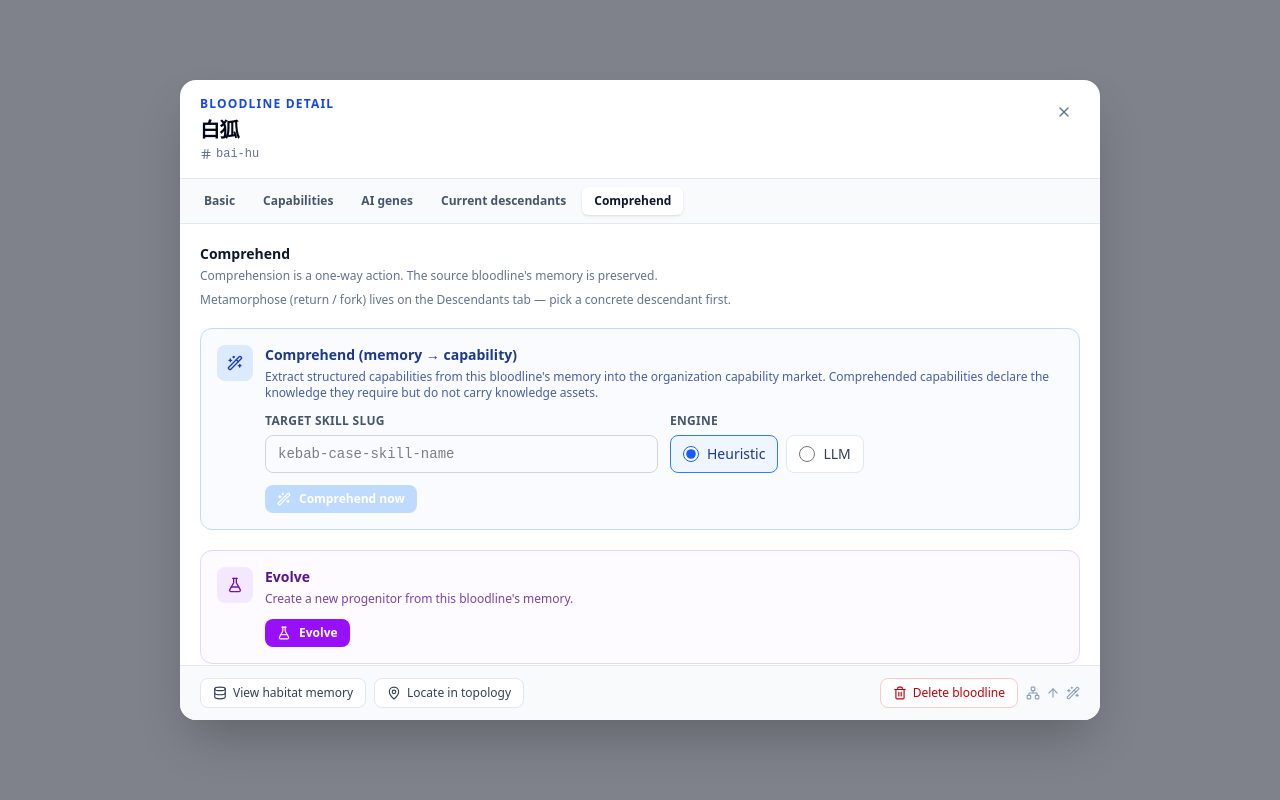
Test: EntityDetailModal › runs distill (memory to capability) with engine selection and shows candidates
Expected: the heading "白狐" is shown, [200, 116, 239, 143]
Type "research-planner" into the field with test id "distill-skill-slug".
click(462, 454); type("research-planner")  # box [265, 435, 658, 473]
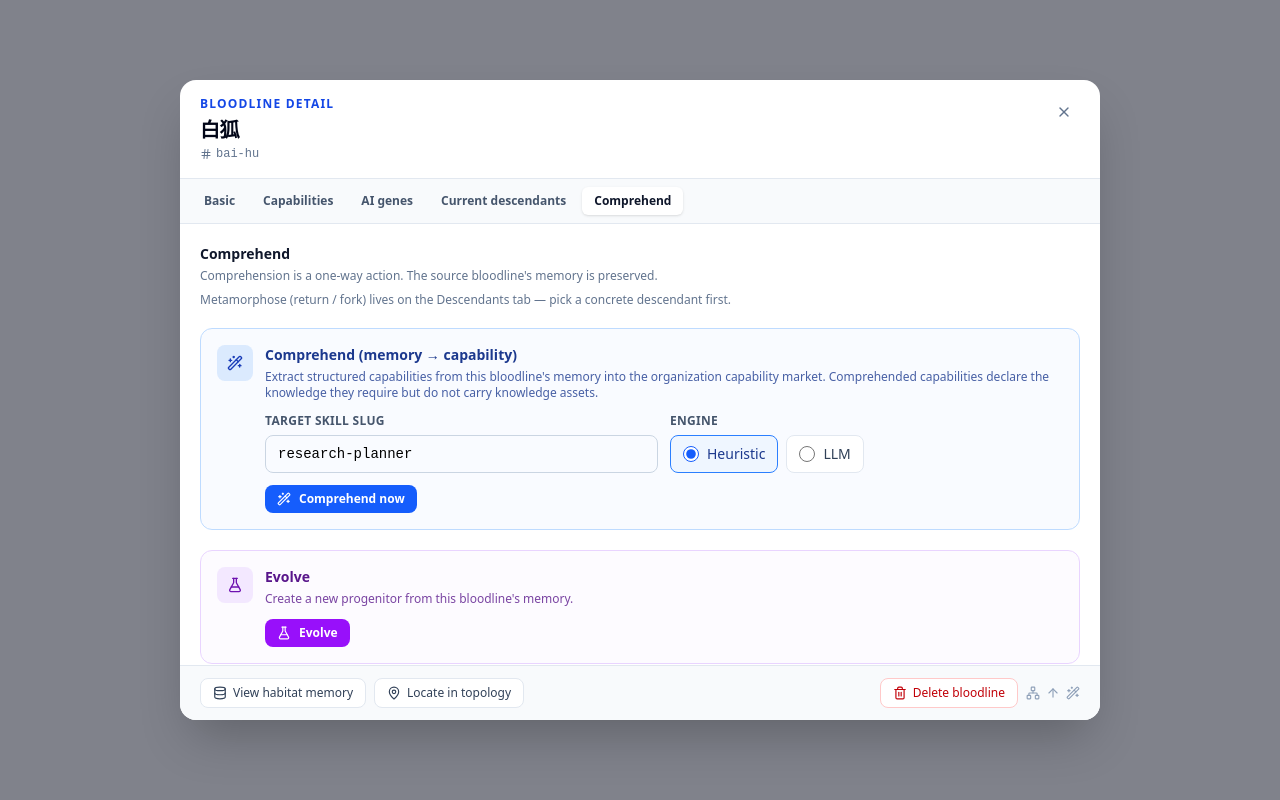
Click the radio button with test id "distill-engine-llm".
click(807, 454)  # box [799, 446, 815, 462]
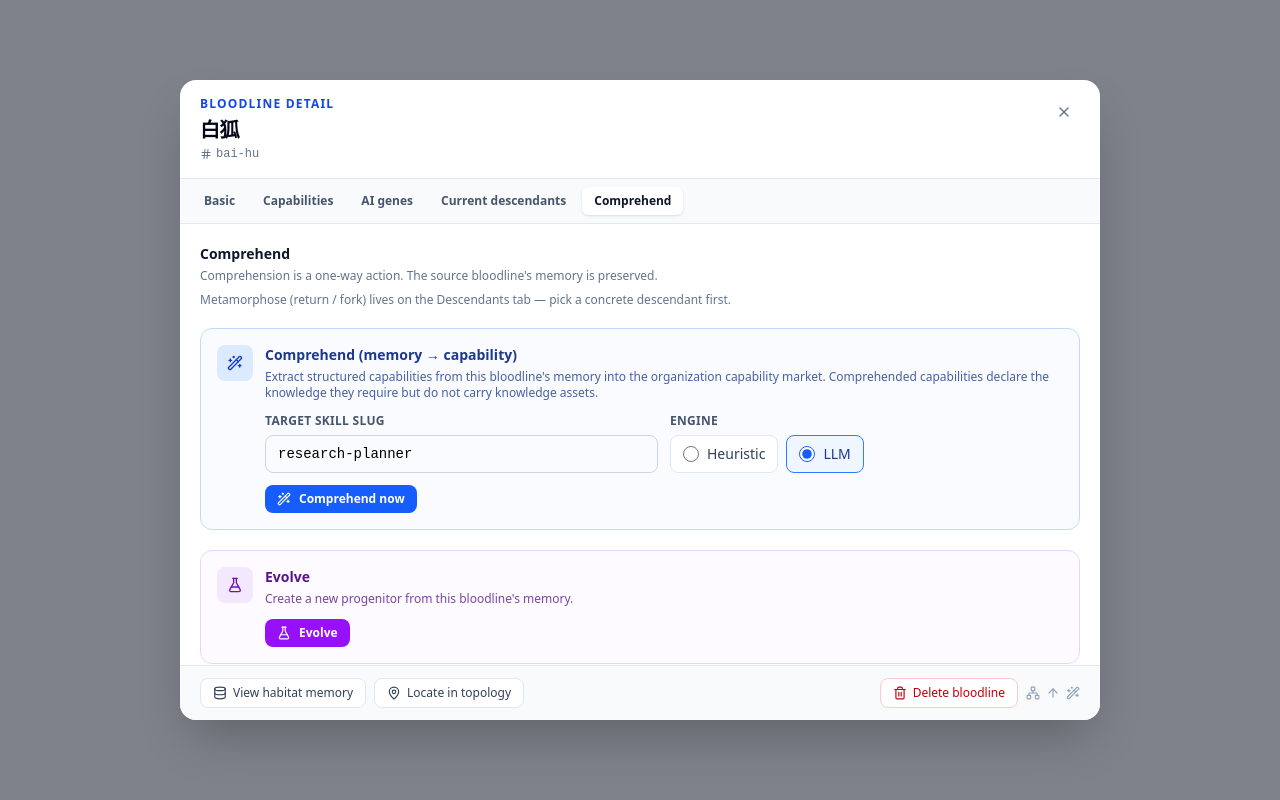
Click the button with test id "distill-submit".
click(341, 499)  # box [265, 485, 417, 513]
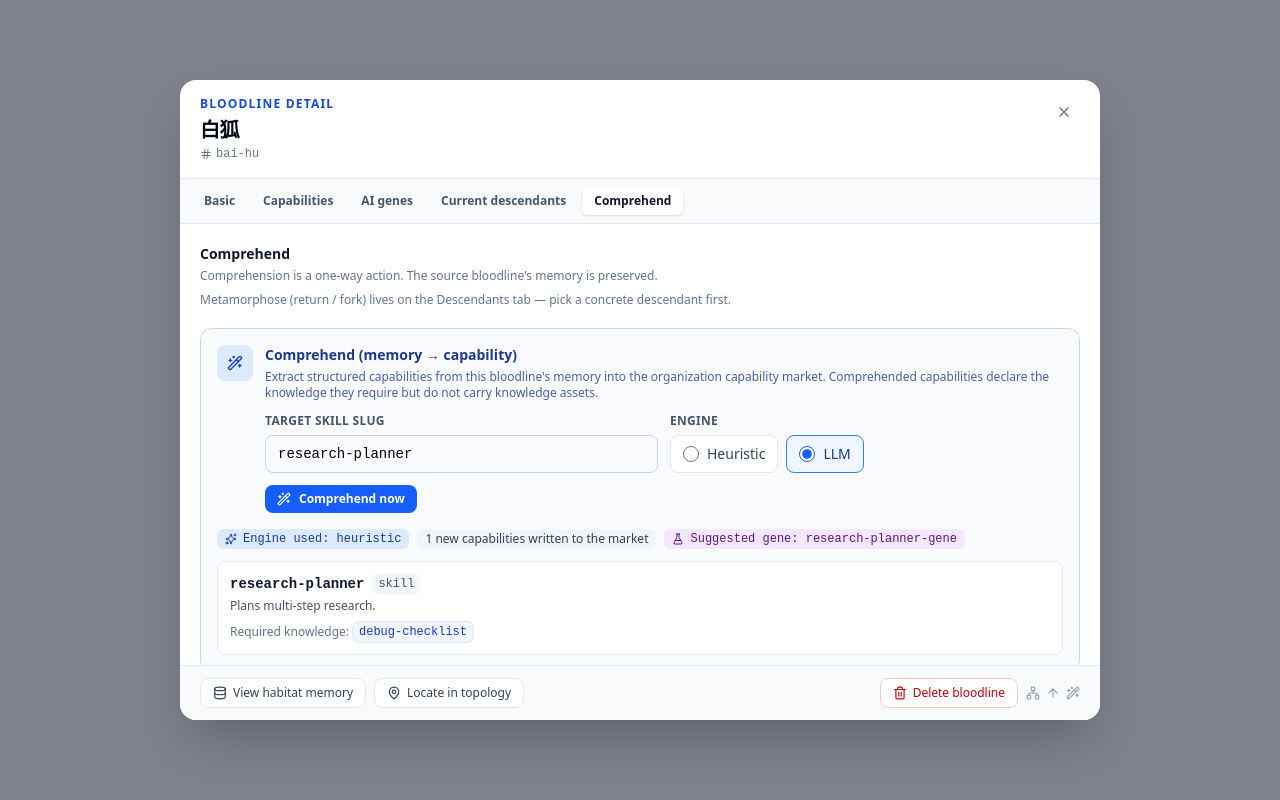
Now the element with test id "distill-result-view" is shown, box [217, 529, 1063, 655]
Now the element with test id "distill-result-view" shows "research-planner", box [230, 576, 364, 592]
Now the element with test id "distill-result-view" shows "debug-checklist", box [359, 625, 467, 639]
